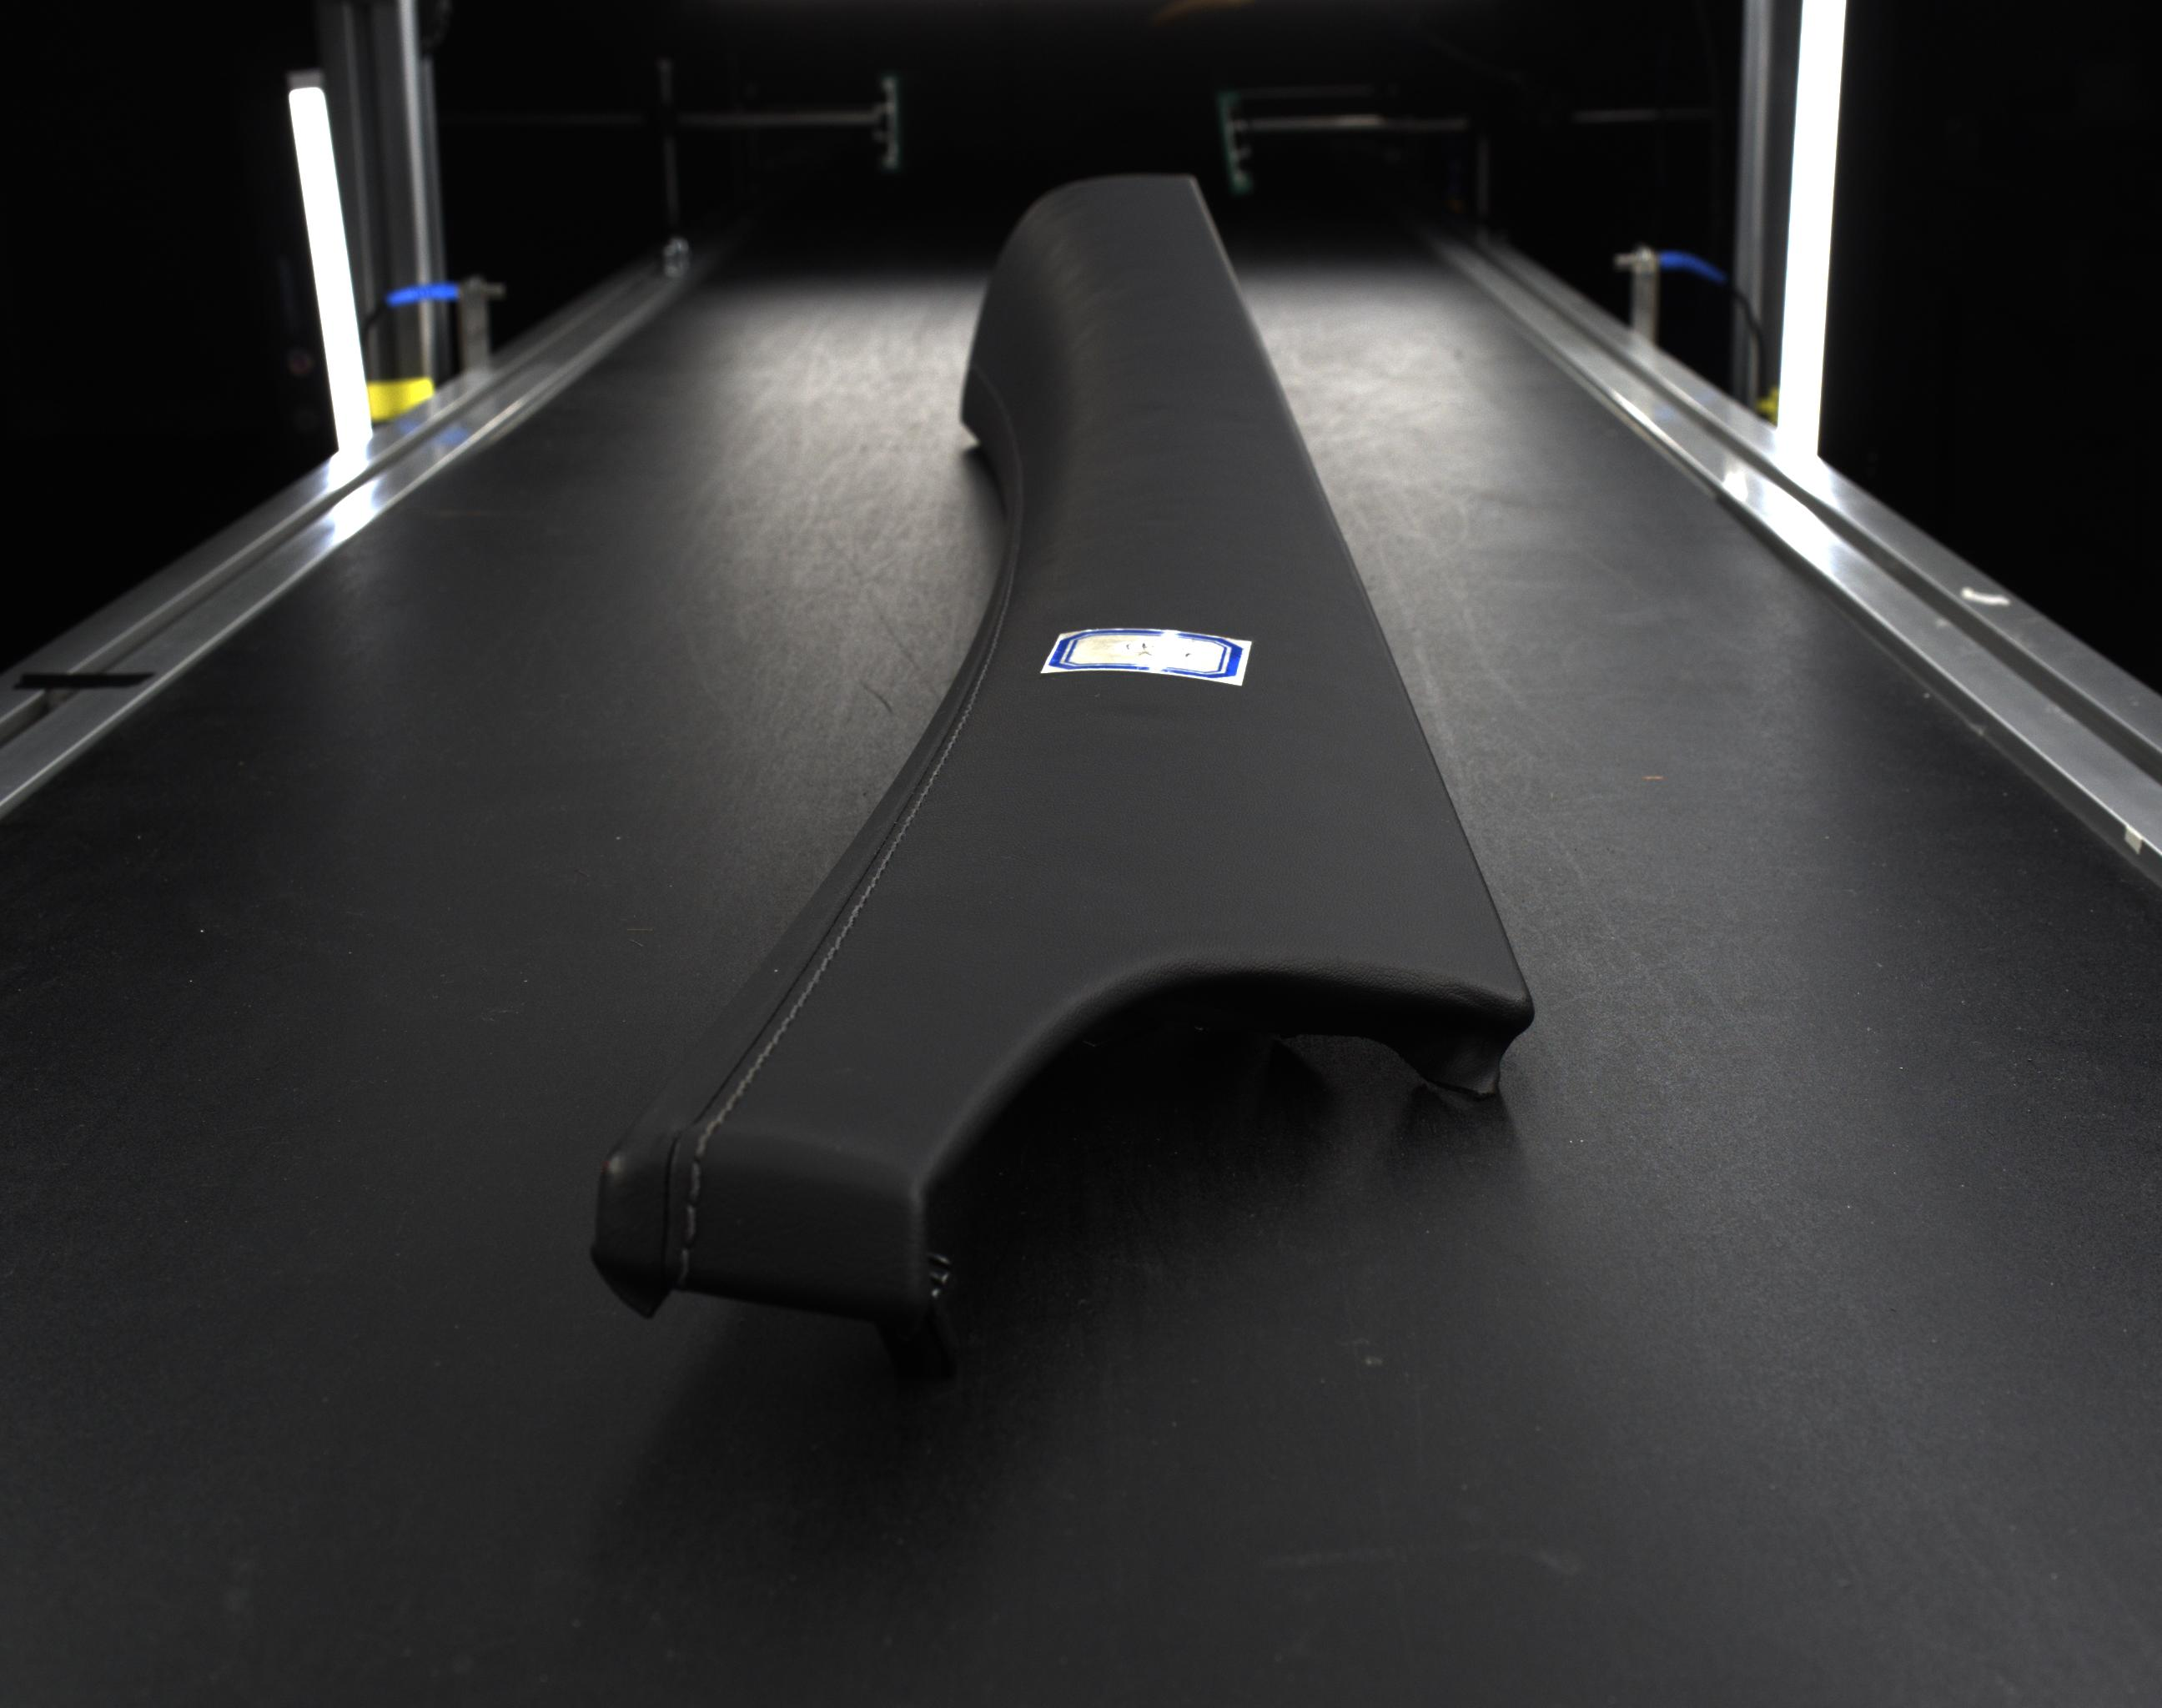vline: (686, 1164, 700, 1204), (677, 1253, 690, 1283), (684, 1206, 695, 1239)
